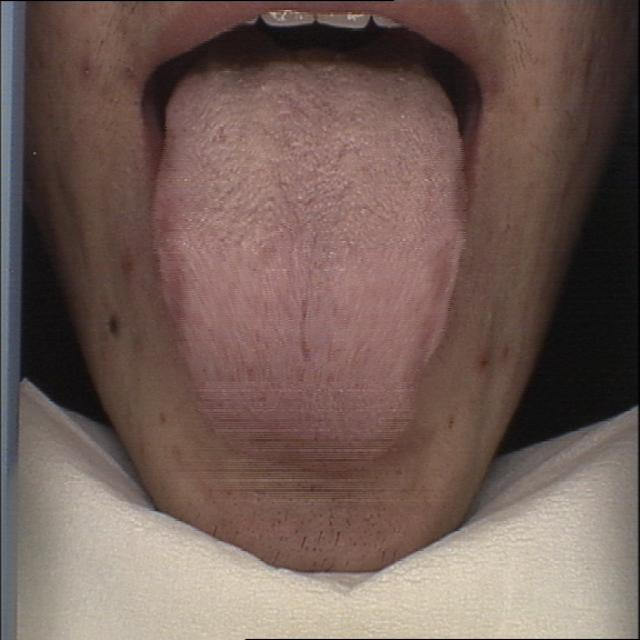tongue: (150, 63, 465, 480)
